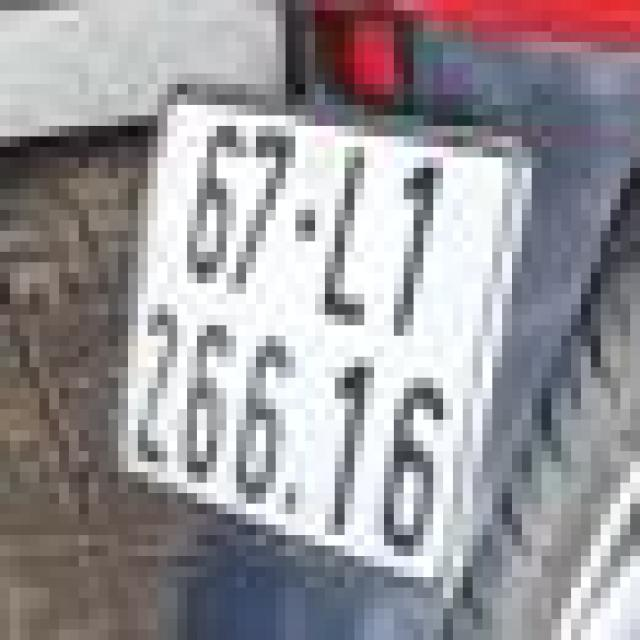1: (381, 141, 464, 349), (314, 340, 389, 550)
2: (126, 295, 199, 476)
6: (370, 362, 459, 546), (177, 114, 258, 293), (224, 329, 302, 514), (172, 311, 250, 488)
7: (216, 123, 306, 313)
L: (308, 134, 404, 333)
